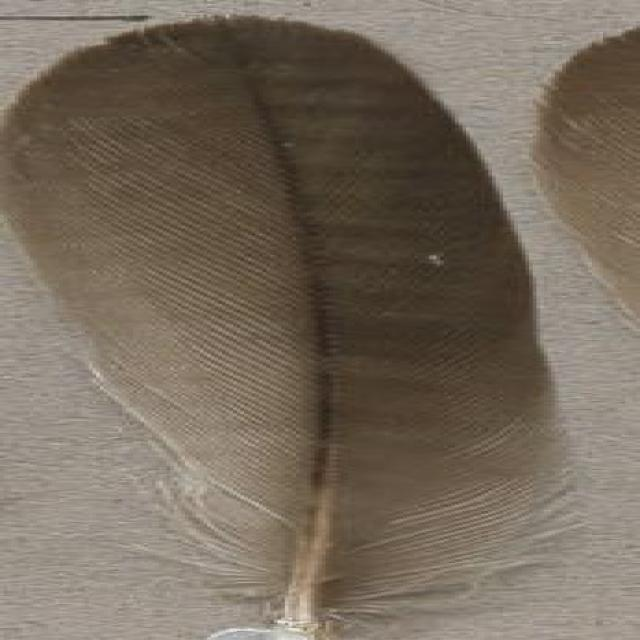feather: (0, 14, 566, 640)
